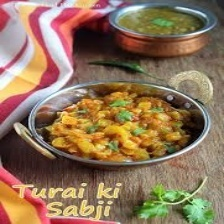dal: (115, 4, 207, 36)
